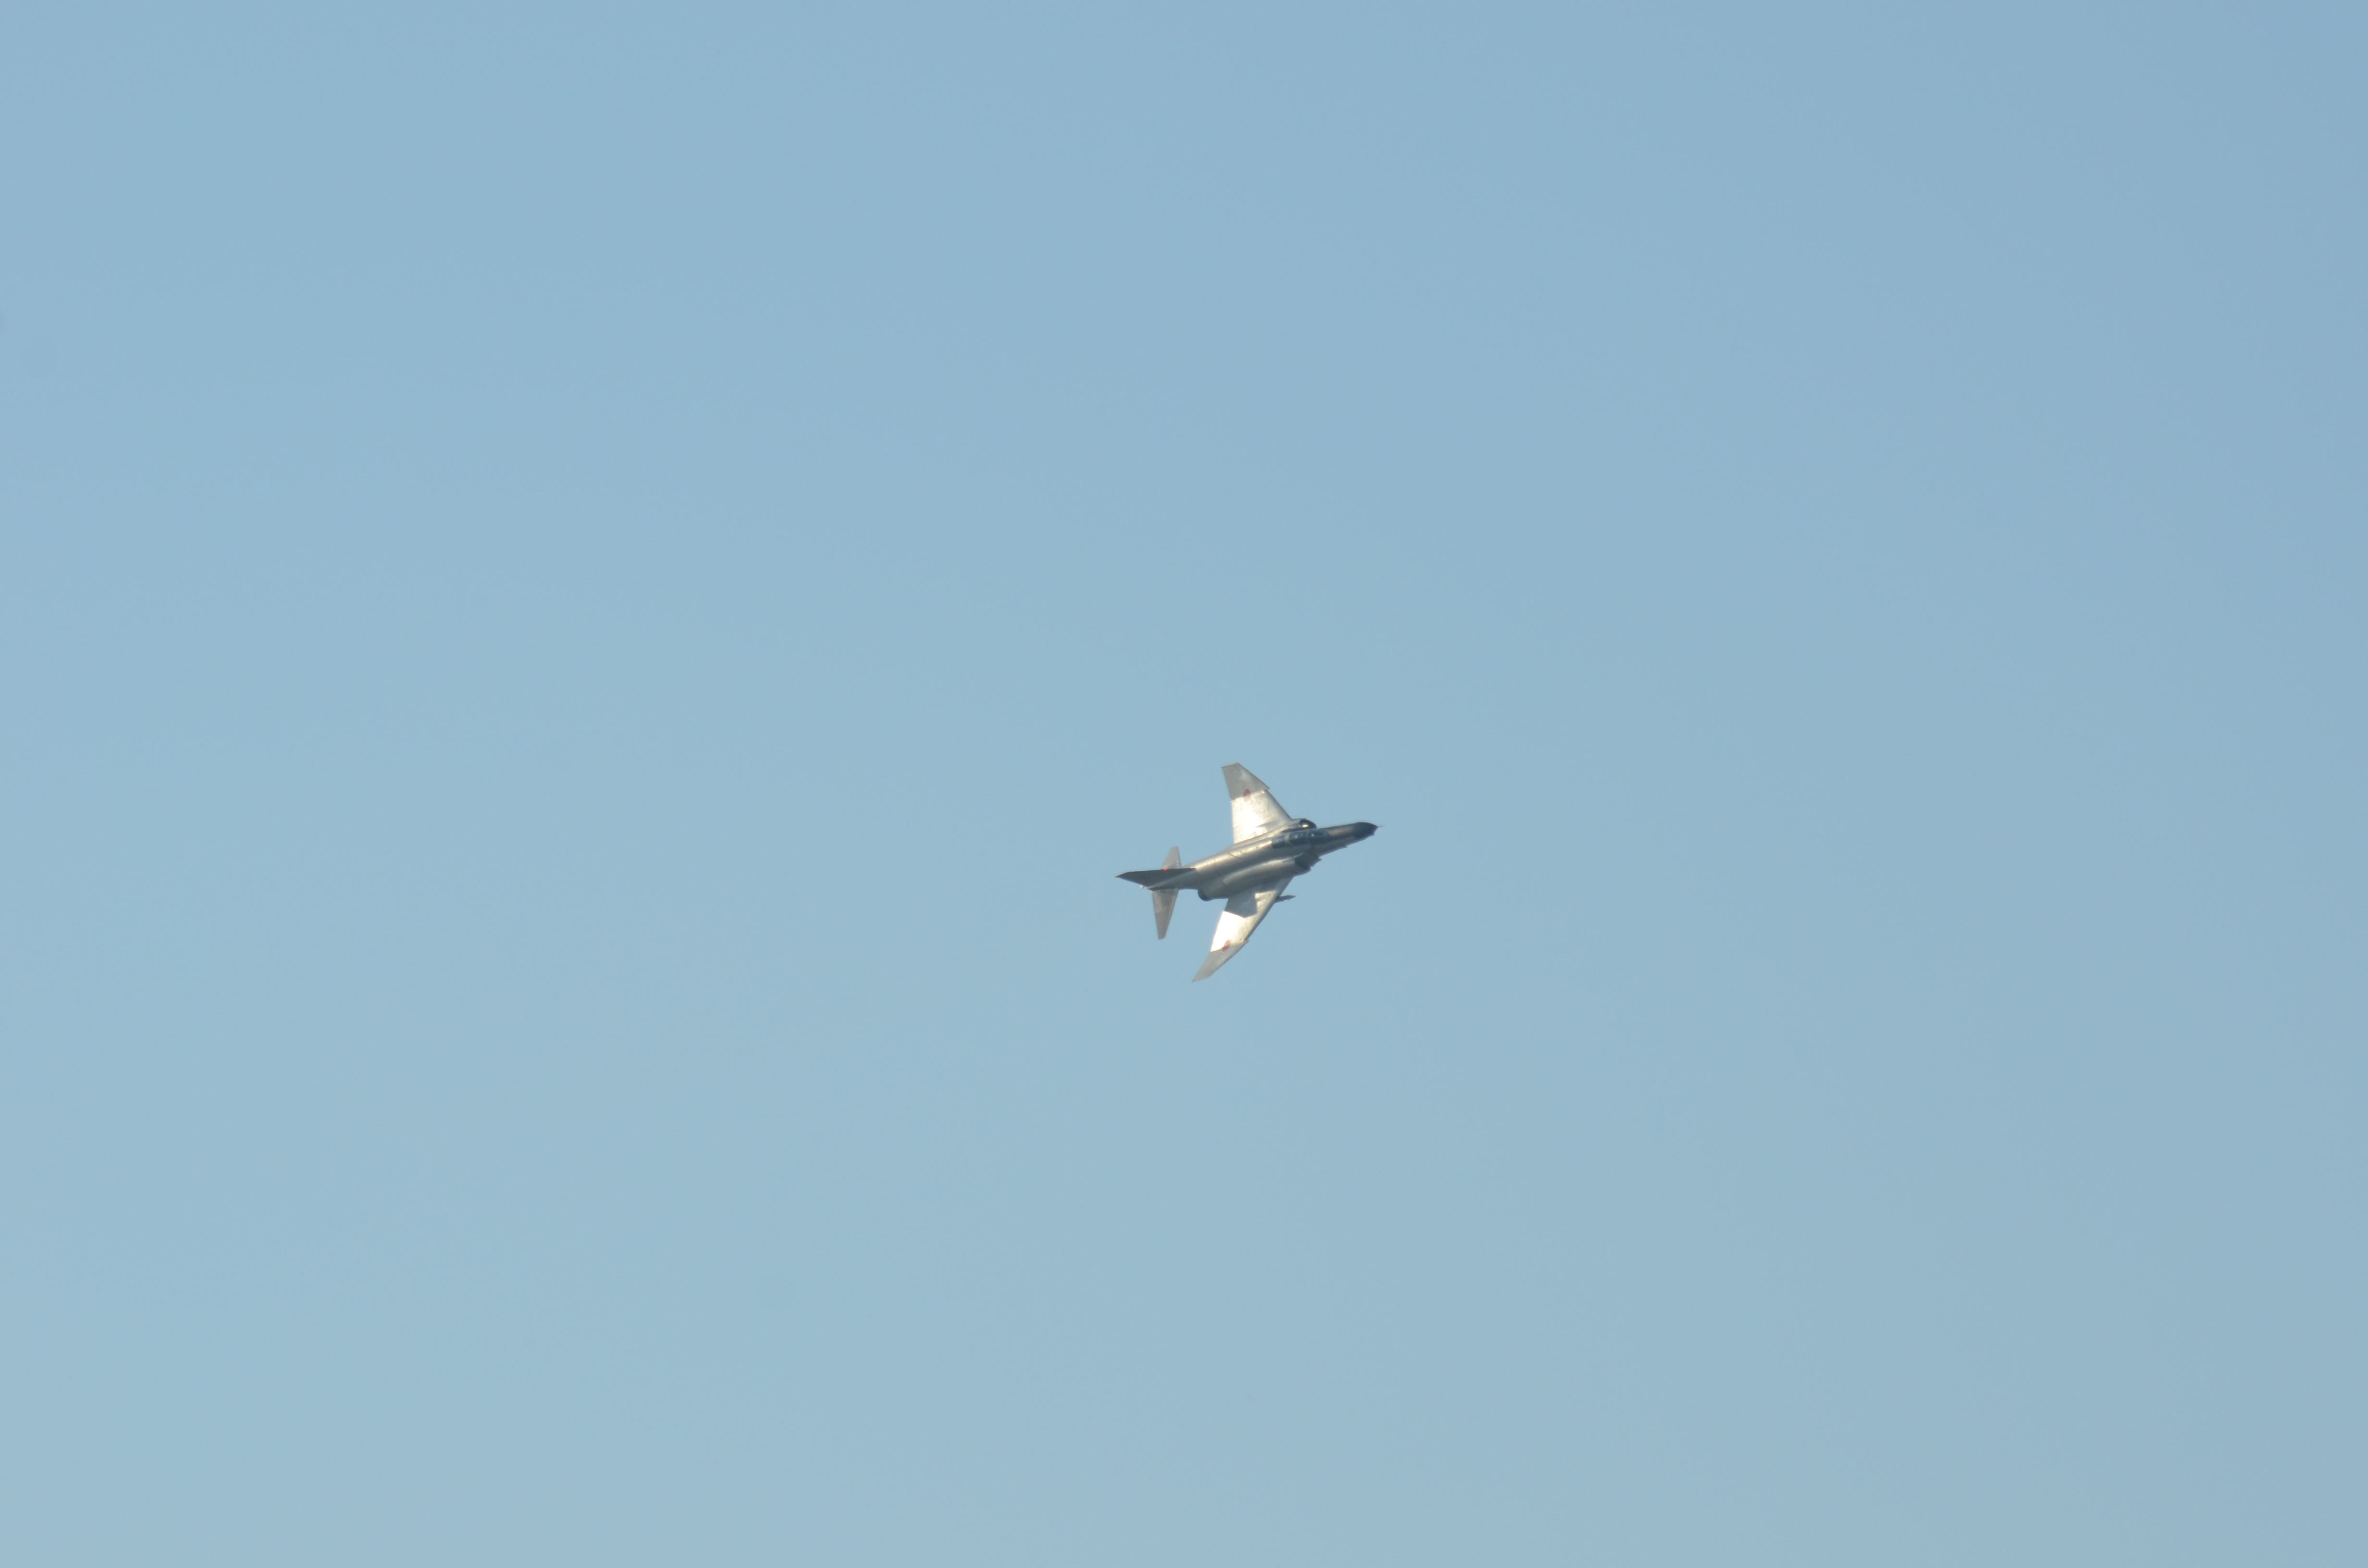F4: (1113, 761, 1388, 982)
